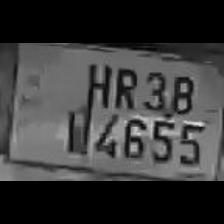3: (138, 65, 168, 113)
4: (90, 107, 118, 159)
5: (174, 120, 204, 166), (146, 115, 174, 163)
6: (118, 111, 146, 160)
8: (166, 69, 196, 114)
H: (78, 57, 112, 109)
R: (110, 62, 138, 110)
